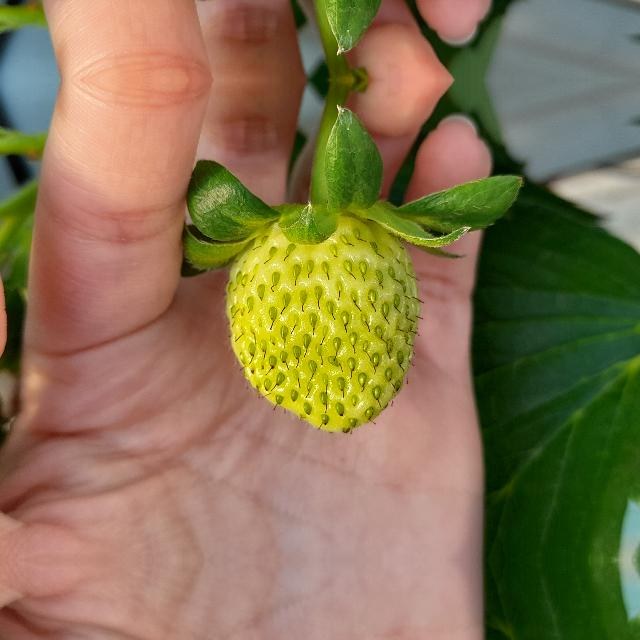Health_25: (222, 214, 424, 433)
